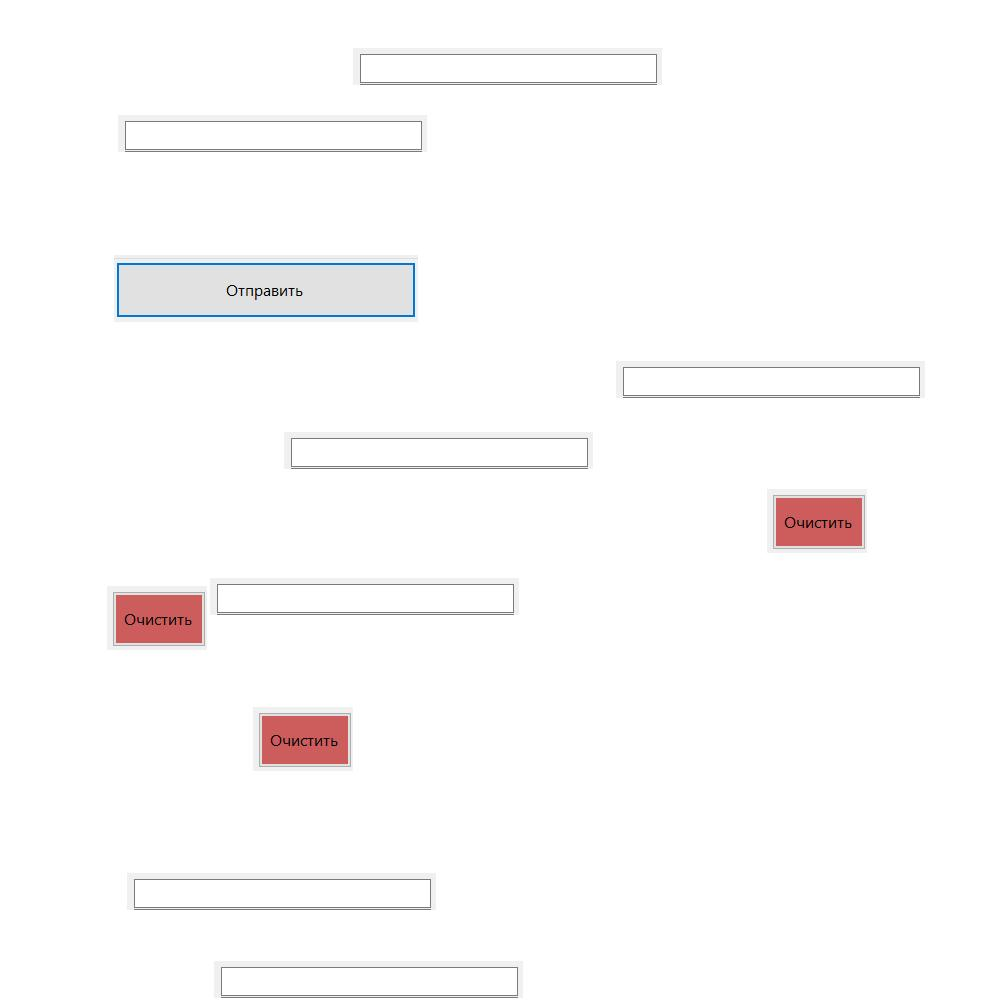Button: (114, 255, 418, 322), (107, 586, 207, 650), (253, 707, 353, 771), (767, 489, 867, 553)
EditText-: (127, 873, 436, 910), (118, 115, 427, 152), (616, 361, 925, 398), (353, 48, 662, 85), (210, 578, 519, 615), (214, 961, 523, 998), (284, 432, 593, 469)
